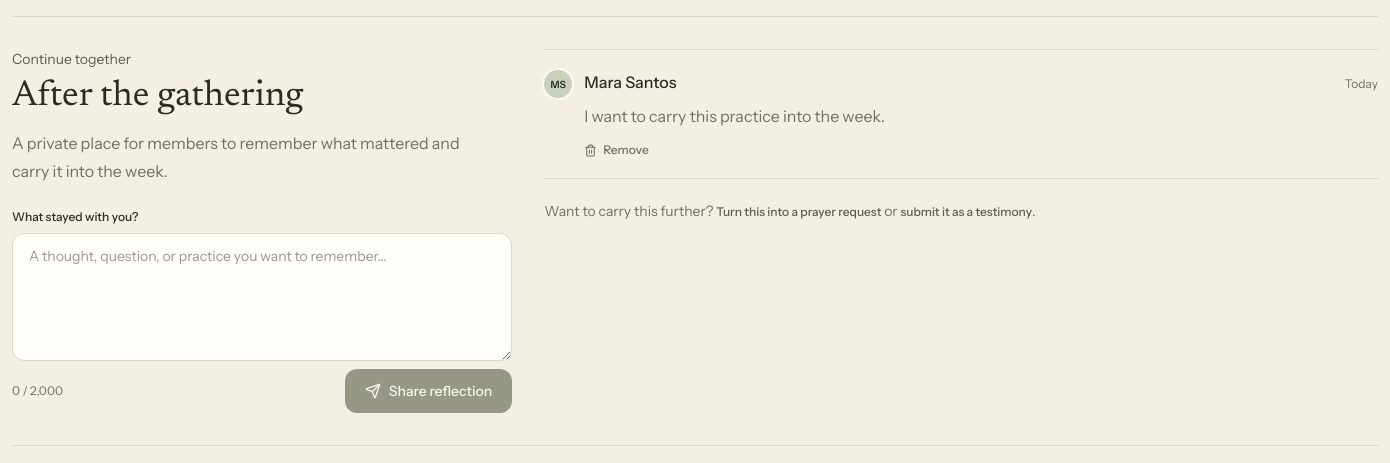
Test: GatheringReflections › lets a gathering leader remove another member's reflection
Step 1. Click the button named "remove mara santos's reflection" → point(617, 150), box [584, 142, 649, 158]
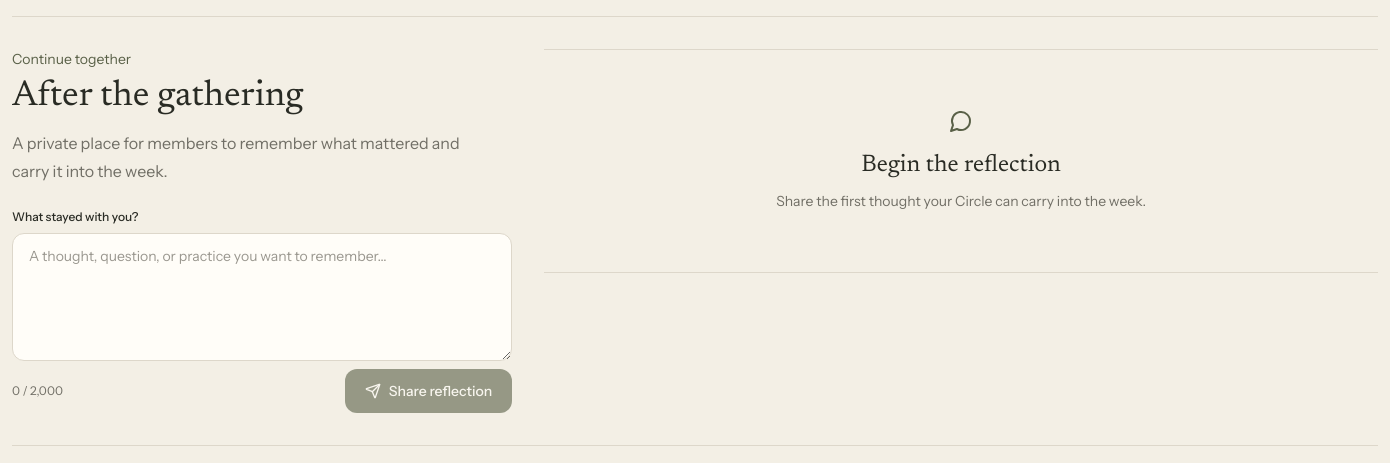
Result: the text "I want to carry this practice into the week." is gone
